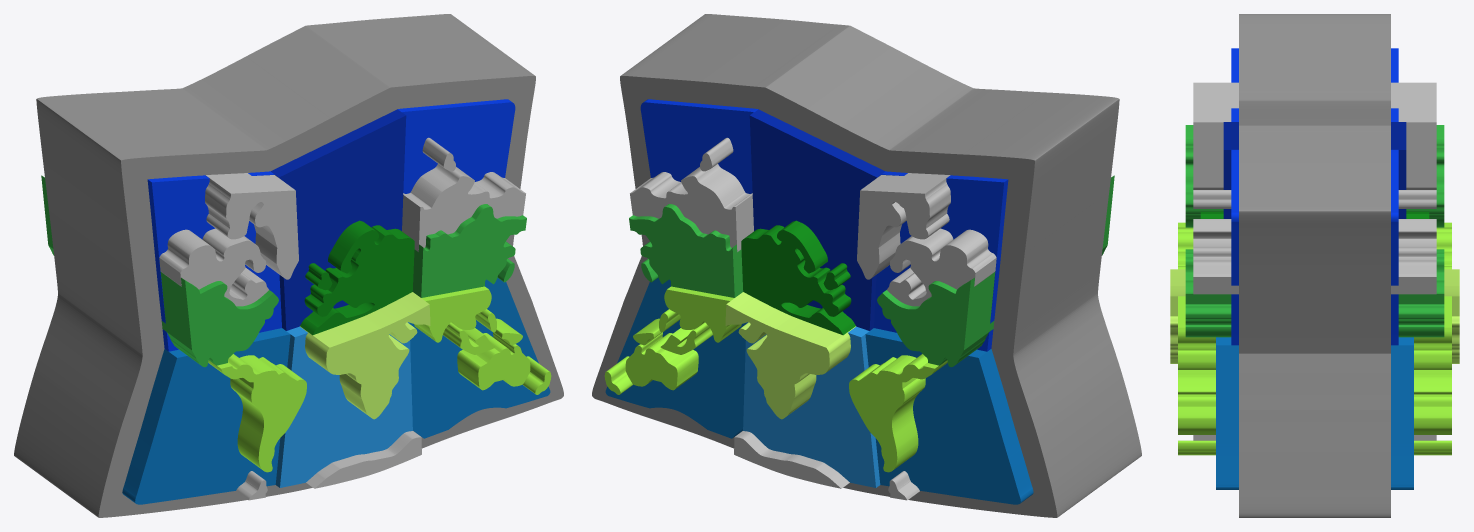
The picture shows the model from 3 angles, left to right: view 1: azimuth 30°, elevation 25°; view 2: azimuth 150°, elevation 25°; view 3: azimuth 270°, elevation 25°; orthographic projection. The views are drawn at different scales.
Parts seen in each view (by area): view 1: U+1F5FA_layer00_obj00, U+1F5FA_layer03_obj00, U+1F5FA_layer02_obj00, U+1F5FA_layer01_obj00, U+1F5FA_layer04_obj00, U+1F5FA_layer09_obj00, U+1F5FA_layer05_obj00, U+1F5FA_layer07_obj02, U+1F5FA_layer06_obj03, U+1F5FA_layer07_obj00, U+1F5FA_layer08_obj01, U+1F5FA_layer06_obj05 (+7 smaller); view 2: U+1F5FA_layer00_obj00, U+1F5FA_layer03_obj00, U+1F5FA_layer02_obj00, U+1F5FA_layer01_obj00, U+1F5FA_layer04_obj00, U+1F5FA_layer09_obj00, U+1F5FA_layer05_obj00, U+1F5FA_layer07_obj02, U+1F5FA_layer06_obj03, U+1F5FA_layer07_obj00, U+1F5FA_layer08_obj01, U+1F5FA_layer06_obj05 (+7 smaller); view 3: U+1F5FA_layer00_obj00, U+1F5FA_layer06_obj03, U+1F5FA_layer03_obj00, U+1F5FA_layer06_obj05, U+1F5FA_layer01_obj00, U+1F5FA_layer07_obj00, U+1F5FA_layer08_obj06, U+1F5FA_layer07_obj02, U+1F5FA_layer09_obj00, U+1F5FA_layer02_obj00, U+1F5FA_layer08_obj02, U+1F5FA_layer08_obj04 (+7 smaller).
Boxes of the visible parts, x1,y1,x2,y2 form: U+1F5FA_layer00_obj00: [14, 14, 563, 517]; U+1F5FA_layer03_obj00: [122, 277, 550, 504]; U+1F5FA_layer02_obj00: [271, 109, 406, 330]; U+1F5FA_layer01_obj00: [147, 99, 515, 351]; U+1F5FA_layer04_obj00: [275, 322, 412, 487]; U+1F5FA_layer09_obj00: [300, 292, 430, 419]; U+1F5FA_layer05_obj00: [300, 220, 414, 335]; U+1F5FA_layer07_obj02: [41, 175, 278, 367]; U+1F5FA_layer06_obj03: [205, 173, 298, 279]; U+1F5FA_layer07_obj00: [412, 204, 526, 297]; U+1F5FA_layer08_obj01: [208, 354, 306, 472]; U+1F5FA_layer06_obj05: [402, 164, 525, 251]; U+1F5FA_layer00_obj00: [592, 14, 1141, 517]; U+1F5FA_layer03_obj00: [605, 277, 1033, 504]; U+1F5FA_layer02_obj00: [749, 109, 884, 330]; U+1F5FA_layer01_obj00: [640, 99, 1008, 351]; U+1F5FA_layer04_obj00: [743, 322, 880, 487]; U+1F5FA_layer09_obj00: [725, 292, 855, 419]; U+1F5FA_layer05_obj00: [741, 220, 855, 335]; U+1F5FA_layer07_obj02: [877, 175, 1114, 367]; U+1F5FA_layer06_obj03: [857, 173, 950, 279]; U+1F5FA_layer07_obj00: [629, 204, 743, 297]; U+1F5FA_layer08_obj01: [849, 354, 947, 472]; U+1F5FA_layer06_obj05: [630, 164, 753, 251]; U+1F5FA_layer00_obj00: [1239, 14, 1390, 517]; U+1F5FA_layer06_obj03: [1193, 82, 1436, 189]; U+1F5FA_layer03_obj00: [1216, 337, 1413, 489]; U+1F5FA_layer06_obj05: [1193, 219, 1436, 294]; U+1F5FA_layer01_obj00: [1231, 48, 1398, 345]; U+1F5FA_layer07_obj00: [1185, 249, 1444, 324]; U+1F5FA_layer08_obj06: [1178, 394, 1451, 434]; U+1F5FA_layer07_obj02: [1185, 125, 1444, 227]; U+1F5FA_layer09_obj00: [1170, 269, 1459, 363]; U+1F5FA_layer02_obj00: [1223, 122, 1406, 218]; U+1F5FA_layer08_obj02: [1178, 296, 1451, 350]; U+1F5FA_layer08_obj04: [1178, 350, 1451, 369].
Size of the model in its own units: 0.3176 by 0.2486 by 0.19.
